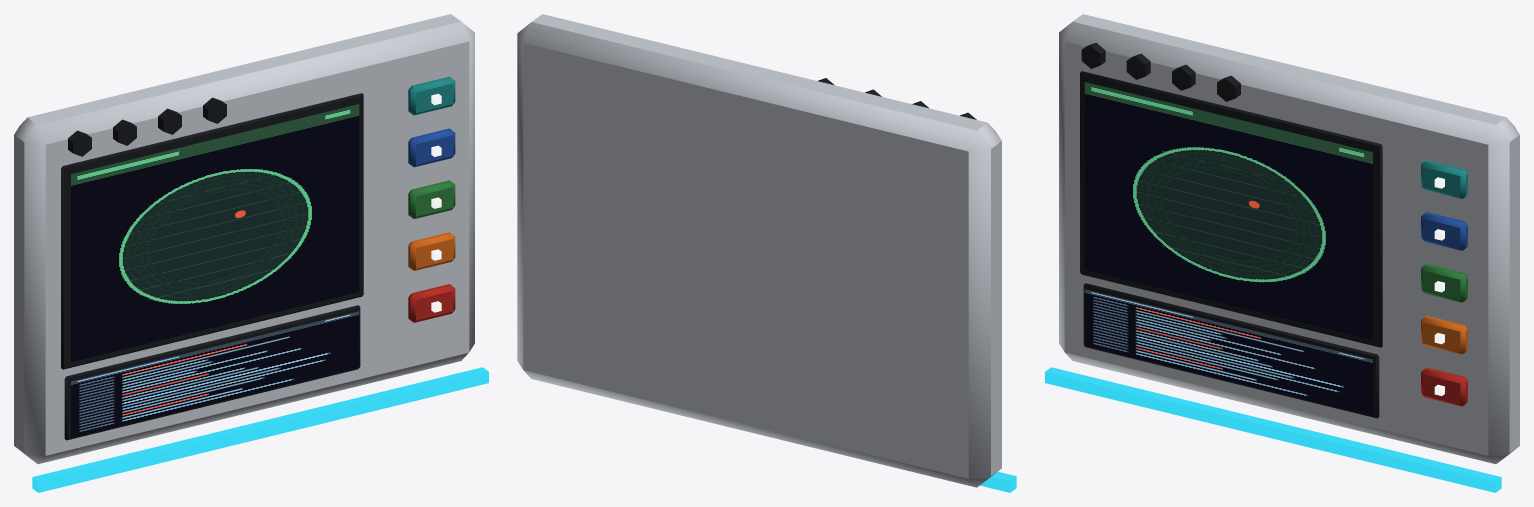
File: commsunit_translator_panel.glb
3 renders of one model, left to right at view 1: azimuth 30°, elevation 25°; view 2: azimuth 150°, elevation 25°; view 3: azimuth 330°, elevation 25°, orthographic. The views are drawn at different scales.
Visible parts, largest first — view 1: commsunit_translator_panel; view 2: commsunit_translator_panel; view 3: commsunit_translator_panel.
Boxes of the visible parts, box(x1,y1,x2,y2) form: commsunit_translator_panel: box(14, 14, 488, 492); commsunit_translator_panel: box(517, 14, 1016, 492); commsunit_translator_panel: box(1045, 14, 1519, 492).
Bounding box in the file's own units: 0.5 × 0.376 × 0.068.
Materials: 11 (2 with a texture image).
